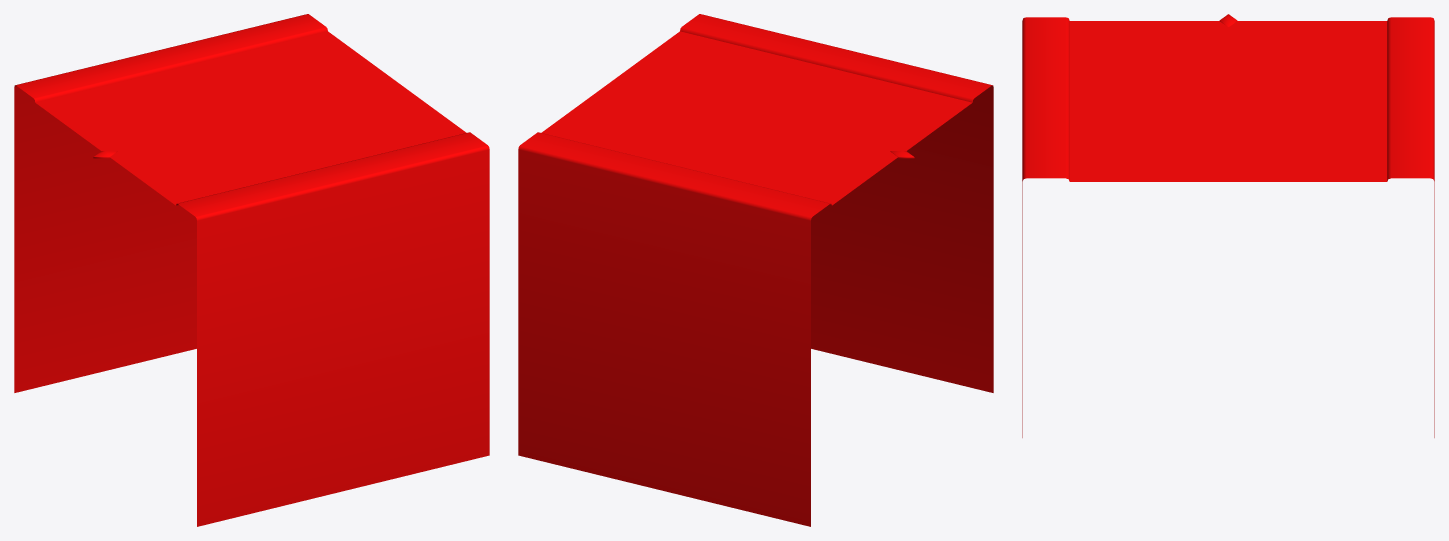
The model's file is part_3_props_mesh_06.fbx.
The picture shows the model from 3 angles, left to right: view 1: azimuth 30°, elevation 25°; view 2: azimuth 150°, elevation 25°; view 3: azimuth 270°, elevation 25°; orthographic projection. The views are drawn at different scales.
Visible parts, largest first — view 1: part_3_bake_mesh_02; view 2: part_3_bake_mesh_02; view 3: part_3_bake_mesh_02.
Part boxes in pixels (<box>): part_3_bake_mesh_02: <box>14,14,489,526</box>; part_3_bake_mesh_02: <box>518,14,993,526</box>; part_3_bake_mesh_02: <box>1022,14,1434,437</box>.
Bounding box in the file's own units: 5.06 × 4.91 × 5.26.
